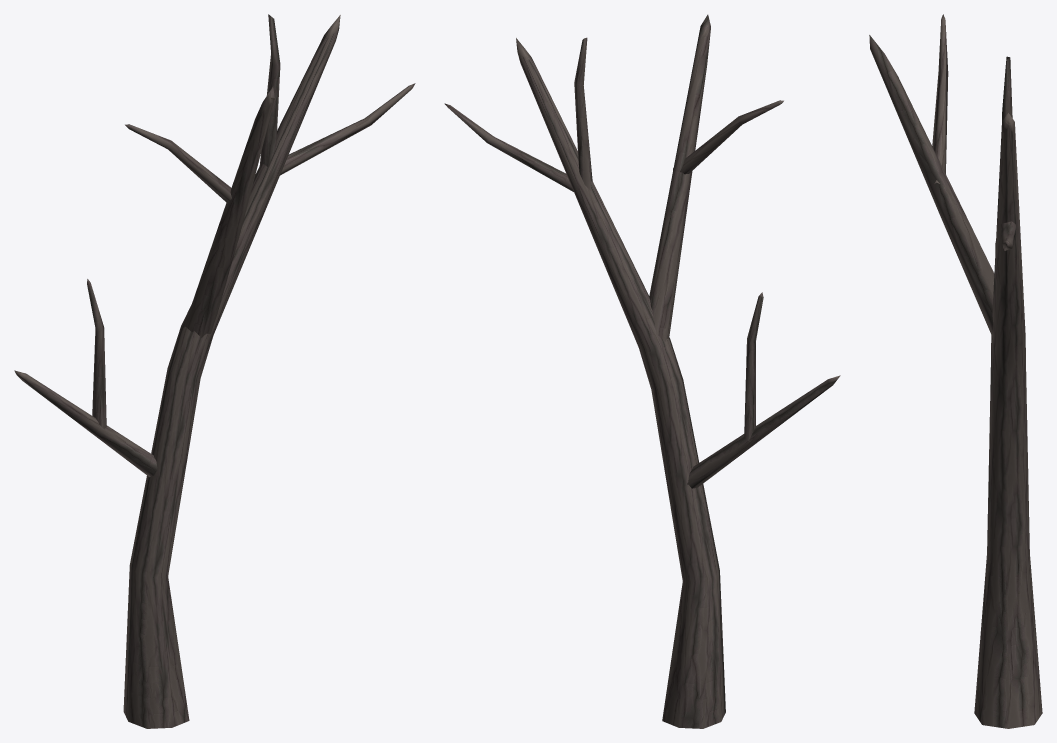
Rendered from DeadTree_9.glb.
3 views of the same model, side by side, from view 1: azimuth 30°, elevation 25°; view 2: azimuth 150°, elevation 25°; view 3: azimuth 270°, elevation 25° (orthographic). The views are drawn at different scales.
Bounding box in the file's own units: 2.06 × 3.27 × 0.7175.
1 material, 1 textured.
